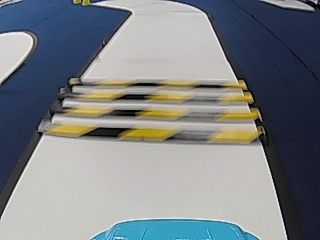bump: (69, 78, 247, 145)
